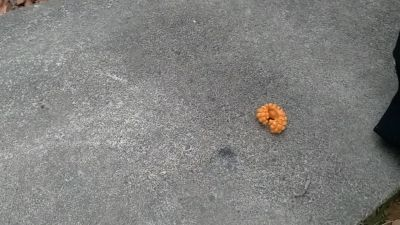eggs: (255, 100, 289, 134)
